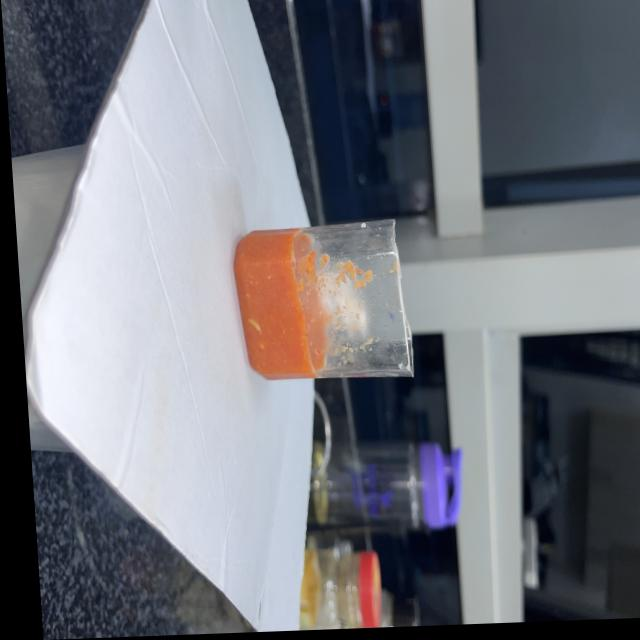blended_pepper: (229, 228, 325, 384)
